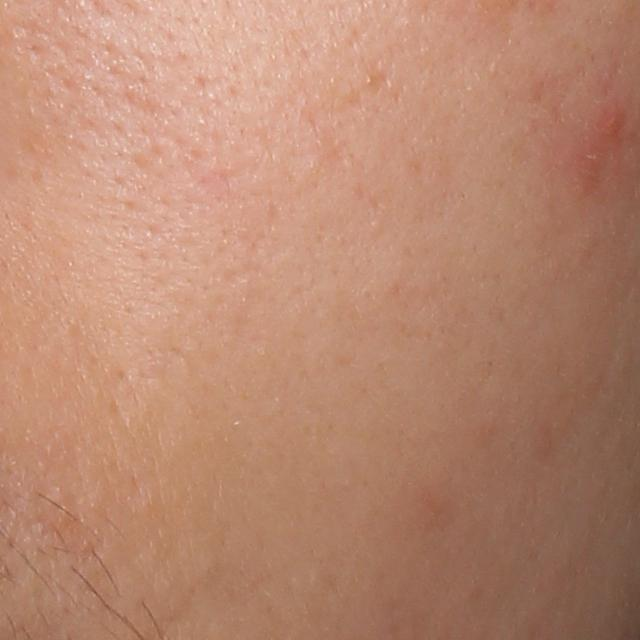papule: (585, 107, 624, 145)
